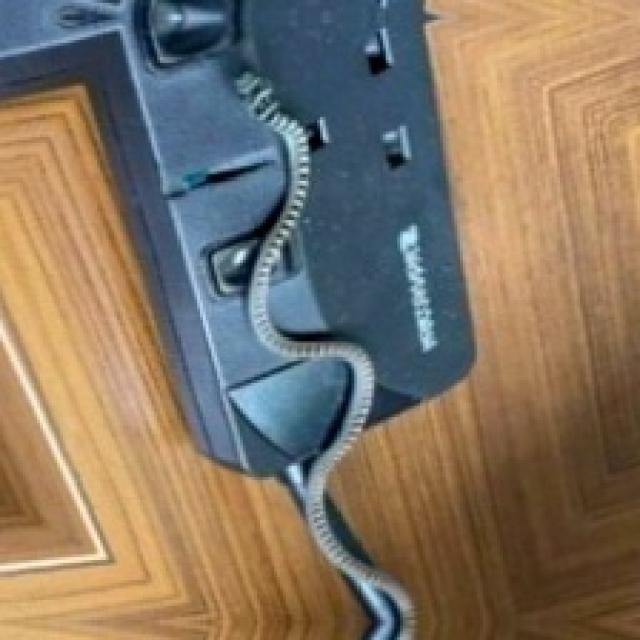paradise tree snake: (0, 0, 343, 631), (229, 71, 411, 637), (257, 0, 469, 394), (223, 560, 363, 637)
